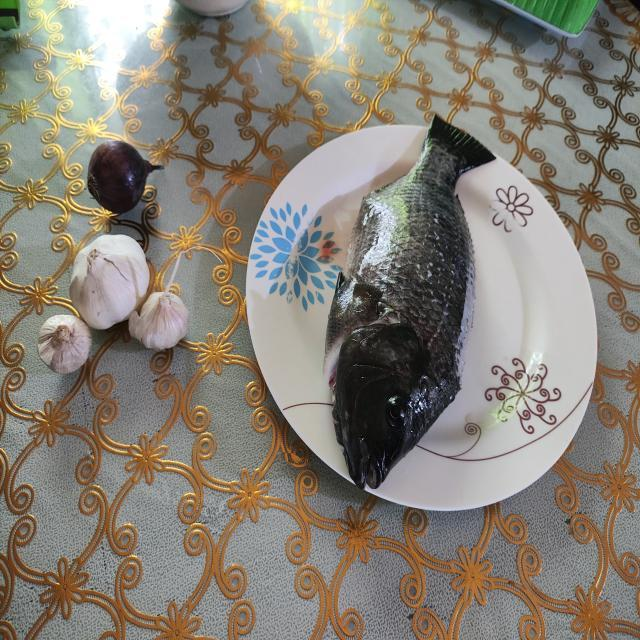fish: (318, 114, 500, 494)
garlic: (39, 230, 190, 380)
onion: (87, 137, 152, 210)
